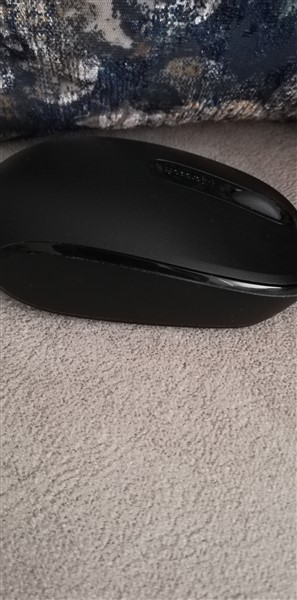mouse: (1, 127, 297, 337)
